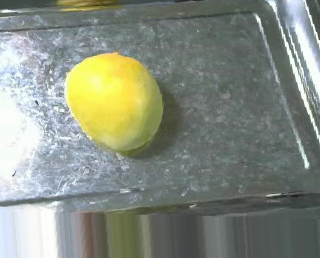Mango: (57, 42, 172, 161)
